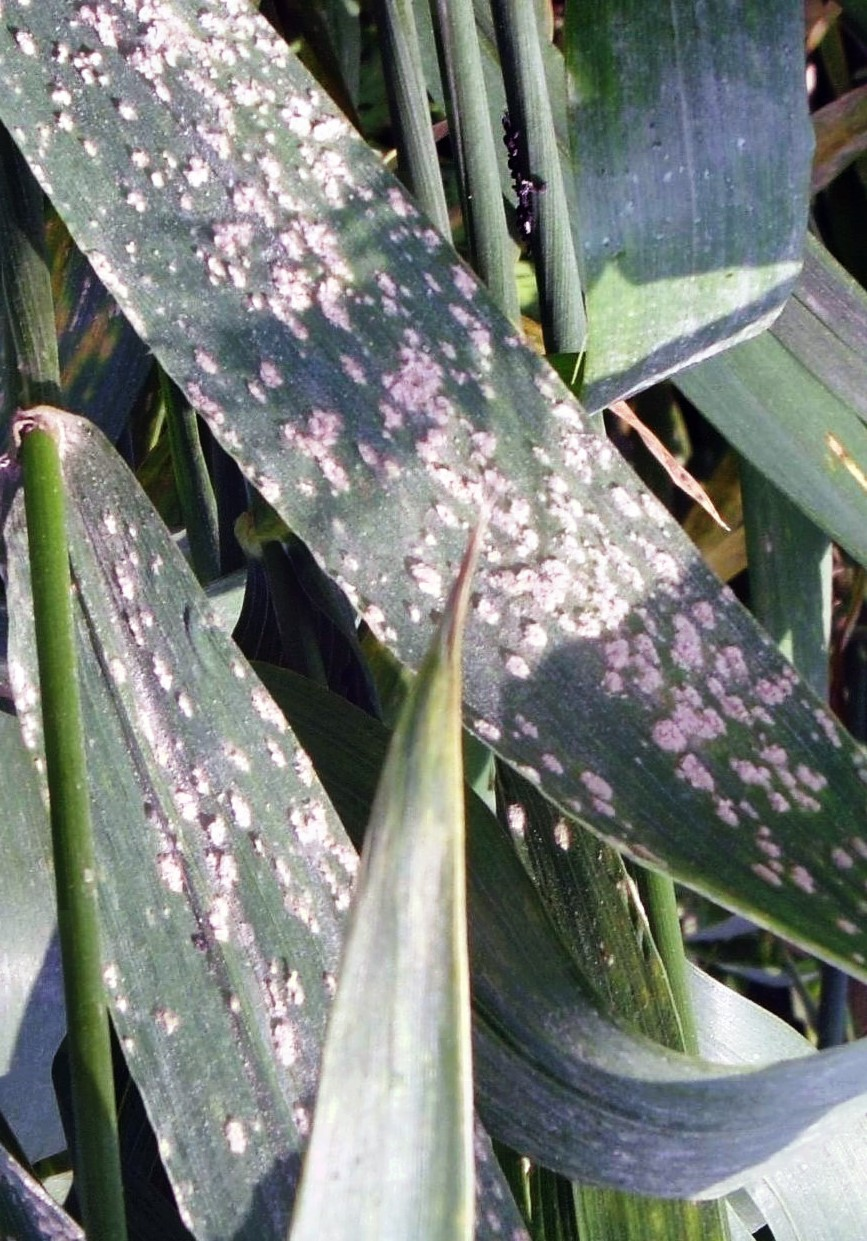Powdery Mildew: (126, 38, 817, 856)
